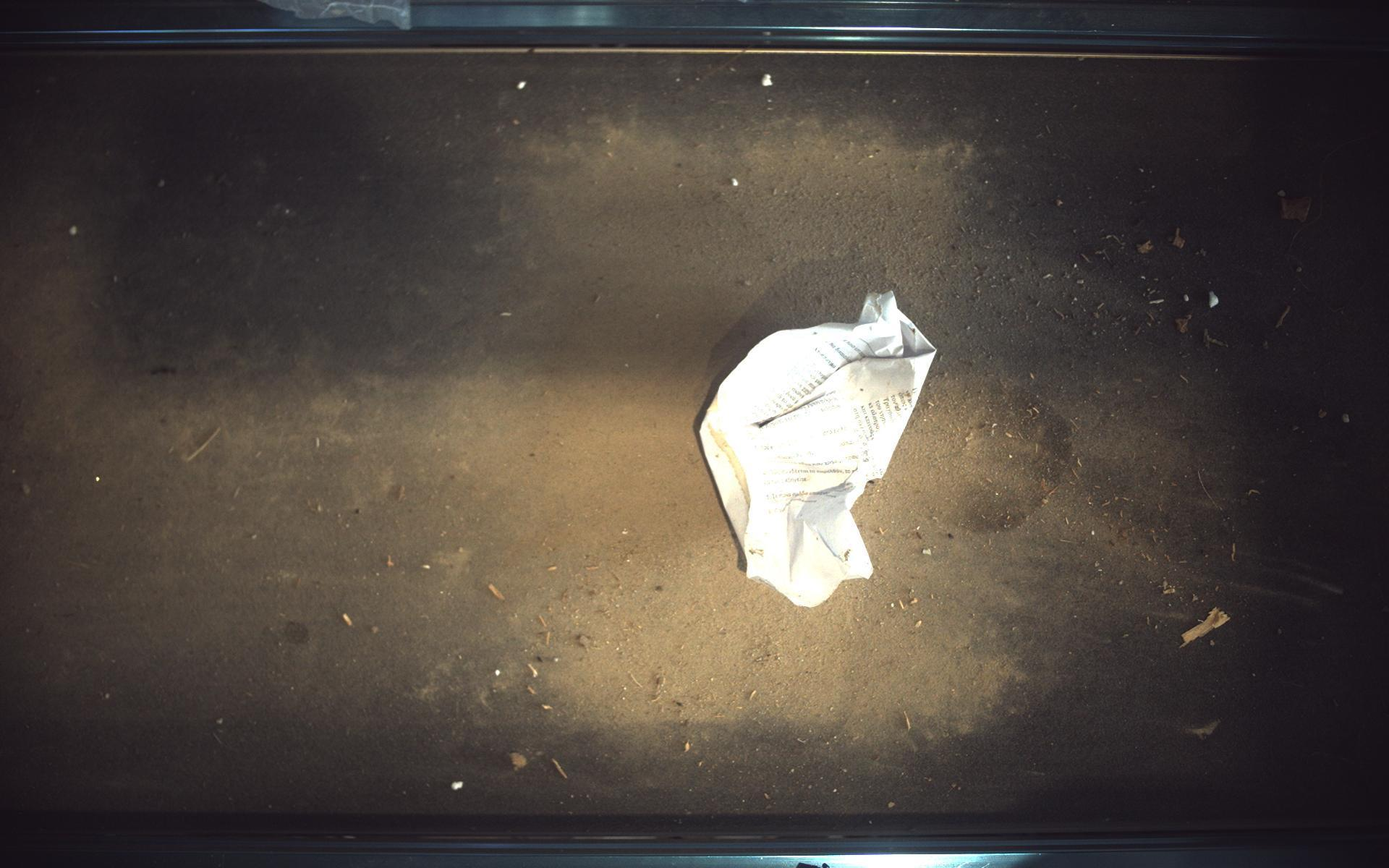general_w: (700, 292, 938, 608)
